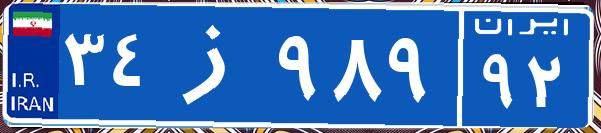2: (525, 38, 570, 115)
3: (57, 26, 110, 107)
4: (110, 28, 158, 105)
8: (330, 28, 385, 110)
9: (385, 28, 445, 110), (273, 28, 330, 110), (475, 38, 525, 113)
ز: (158, 15, 273, 115)
